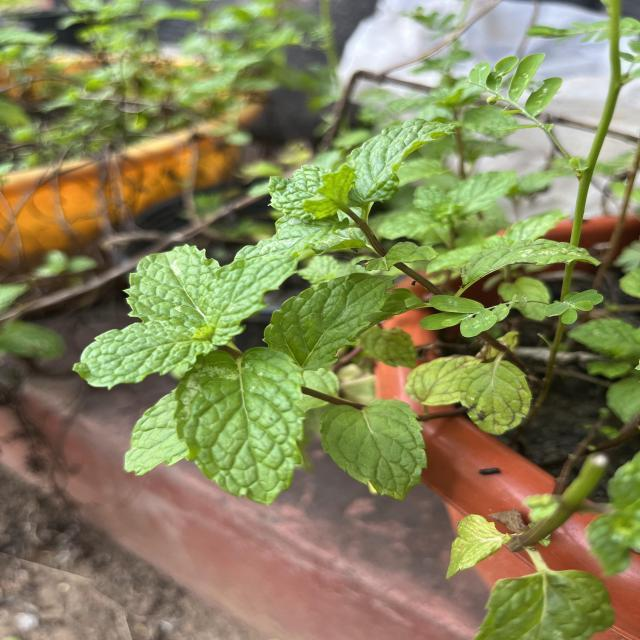Mentha spicata: (172, 346, 306, 507), (261, 272, 399, 372), (320, 398, 428, 501), (71, 320, 216, 392), (121, 244, 222, 324)
